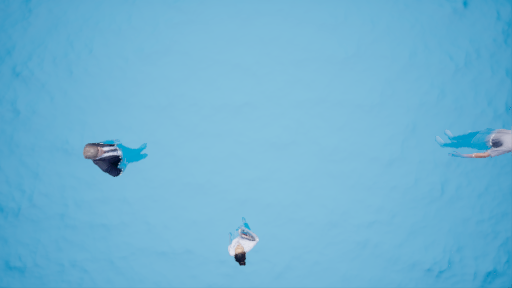person: (81, 135, 154, 179), (434, 123, 512, 163), (225, 219, 262, 268)
